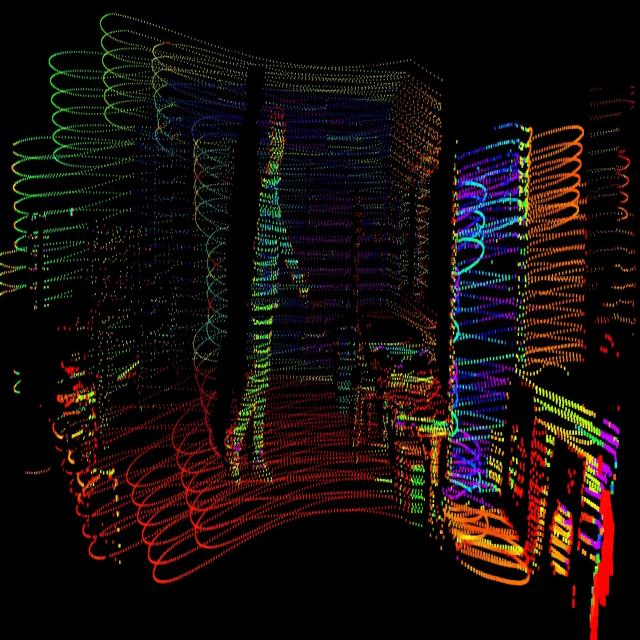human: (229, 83, 308, 490)
